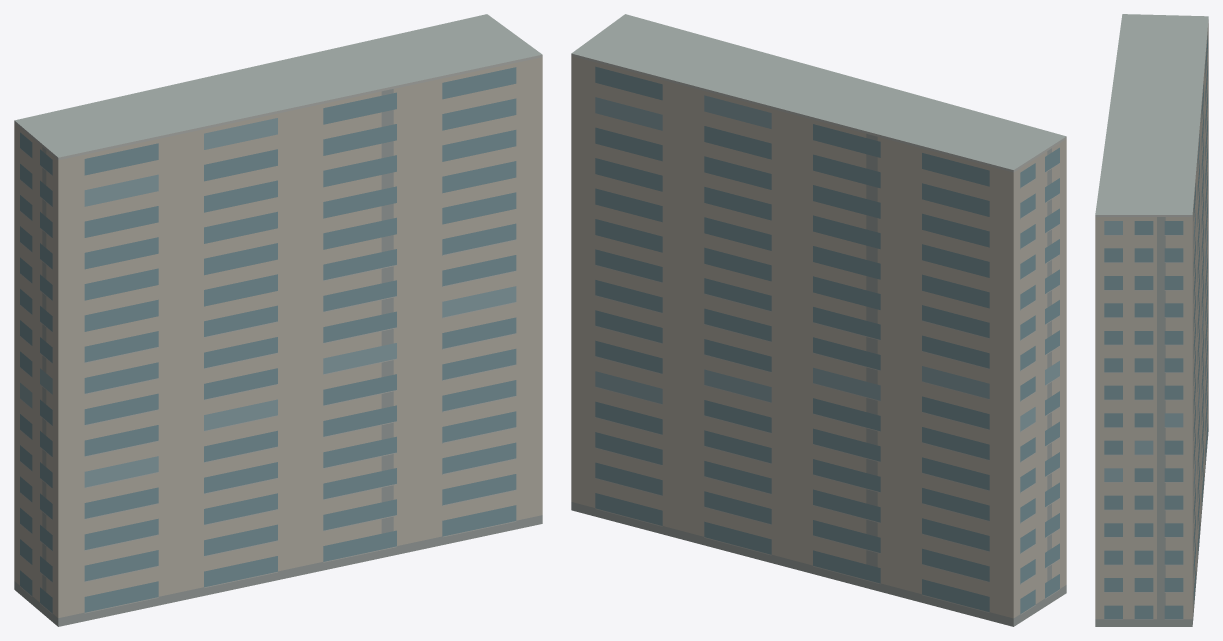
File: residential-76a62f46-98be-4861-bf7c-4673f3a2c61f.glb
3 views of the same model, side by side, from view 1: azimuth 30°, elevation 25°; view 2: azimuth 150°, elevation 25°; view 3: azimuth 270°, elevation 25° (orthographic). The views are drawn at different scales.
Visible parts, largest first — view 1: residential-76a62f46-98be-4861-bf7c-4673f3a2c61f.tmp; view 2: residential-76a62f46-98be-4861-bf7c-4673f3a2c61f.tmp; view 3: residential-76a62f46-98be-4861-bf7c-4673f3a2c61f.tmp.
Boxes of the visible parts, <box> form: residential-76a62f46-98be-4861-bf7c-4673f3a2c61f.tmp: <box>14,14,542,626</box>; residential-76a62f46-98be-4861-bf7c-4673f3a2c61f.tmp: <box>571,14,1066,626</box>; residential-76a62f46-98be-4861-bf7c-4673f3a2c61f.tmp: <box>1095,14,1208,626</box>.
Size of the model in its own units: 47.86 by 45.75 by 11.43.
